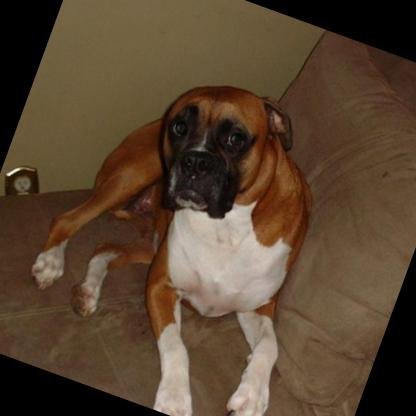boxer: (0, 31, 370, 416)
